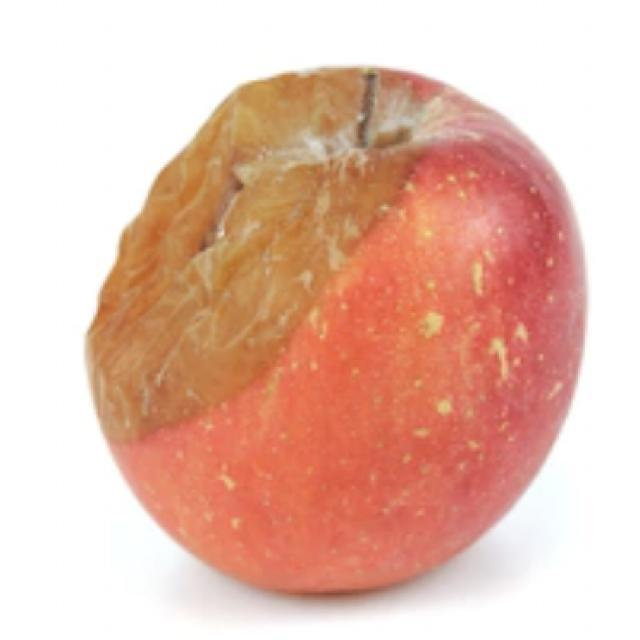Rotten: (73, 55, 590, 602)
